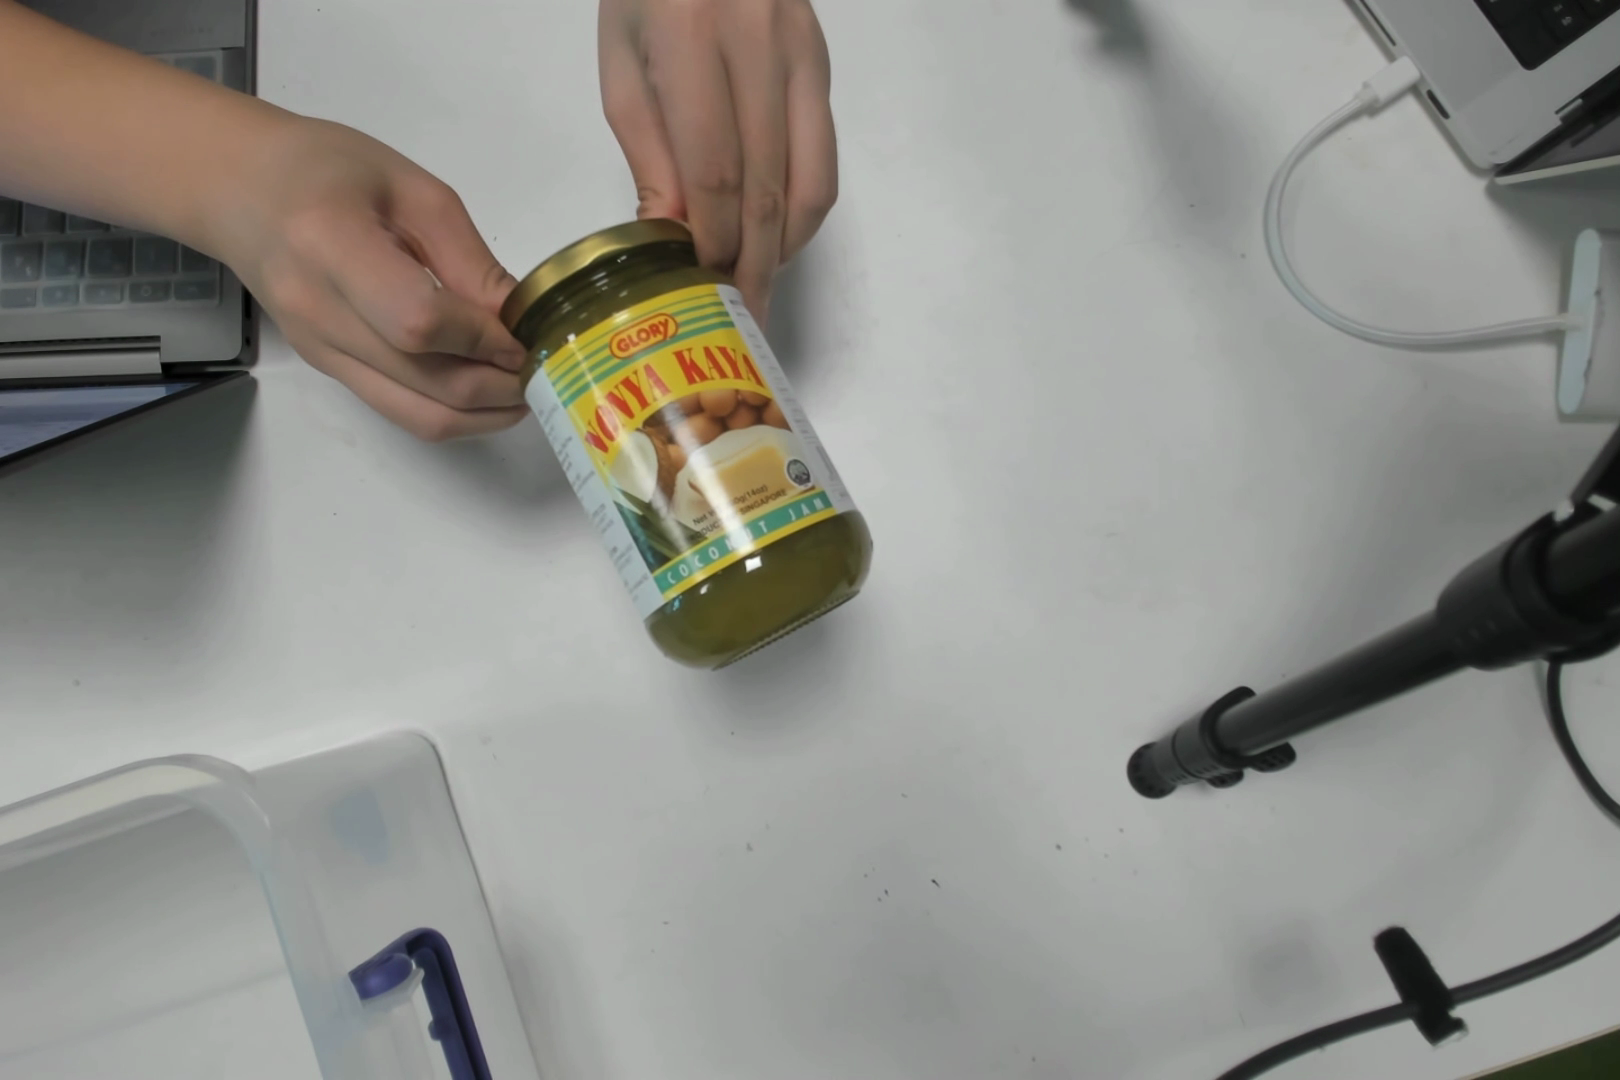Kaya_400-499g_Halal_NonHealthy: (526, 251, 843, 614)
